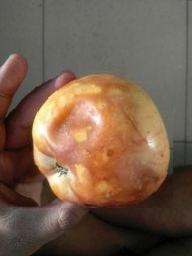Apple Rotten: (27, 63, 173, 208)
